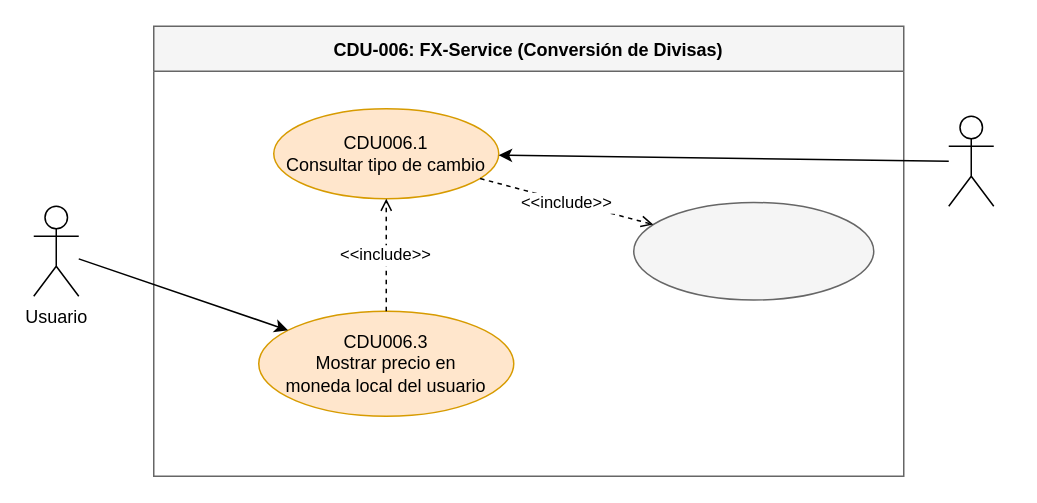
The diagram is 1037 pixels wide and 503 high, and some of its shapes have lost their labels. The shapes that lost their labels are listed below. From the top down, each one's centre as x and y in pixels, then its label:
At [970,160]: "API de Divisas (Externa)".
At [753,250]: "CDU006.2 Cachear tipo de cambio en Redis (TTL 30 min)".
